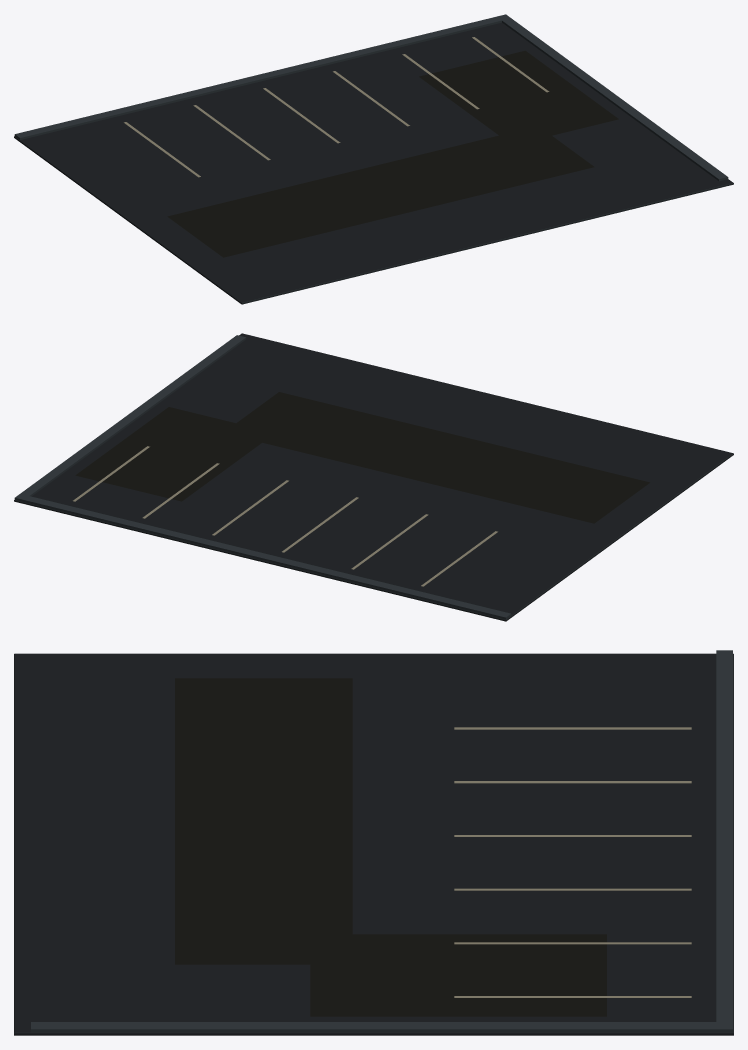
File: lp_park_deck.glb
3 views of the same model, one above another, from view 1: azimuth 30°, elevation 25°; view 2: azimuth 150°, elevation 25°; view 3: azimuth 270°, elevation 25° (orthographic). The views are drawn at different scales.
Visible parts, largest first — view 1: lp_park_deck; view 2: lp_park_deck; view 3: lp_park_deck.
Boxes of the visible parts, x1,y1,x2,y2 form: lp_park_deck: [14, 14, 733, 304]; lp_park_deck: [14, 333, 733, 621]; lp_park_deck: [14, 650, 733, 1035].
Size of the model in its own units: 21.2 by 0.155 by 17.
Materials: 1 (1 with a texture image).
